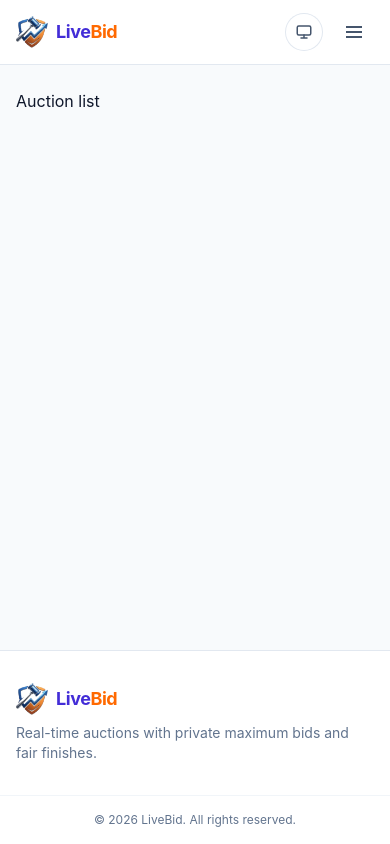
Test: <Layout> phone menu › shows bidders only the public links
Click the button named "menu" at (354, 32), box left=334, top=12, right=374, bottom=52
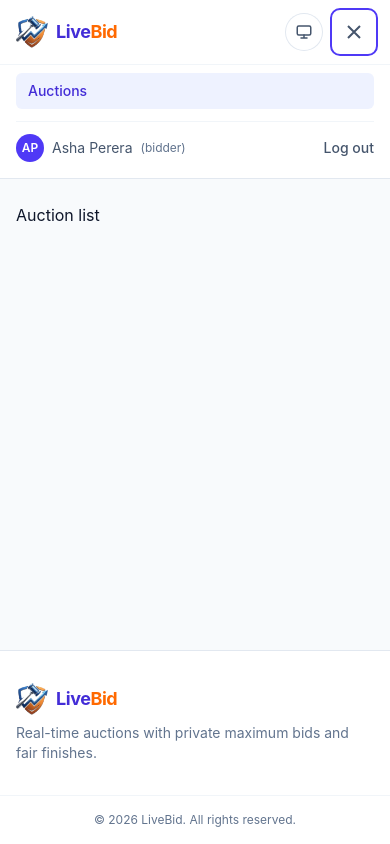
Expected: the link "Auctions" is shown, left=16, top=73, right=374, bottom=109
